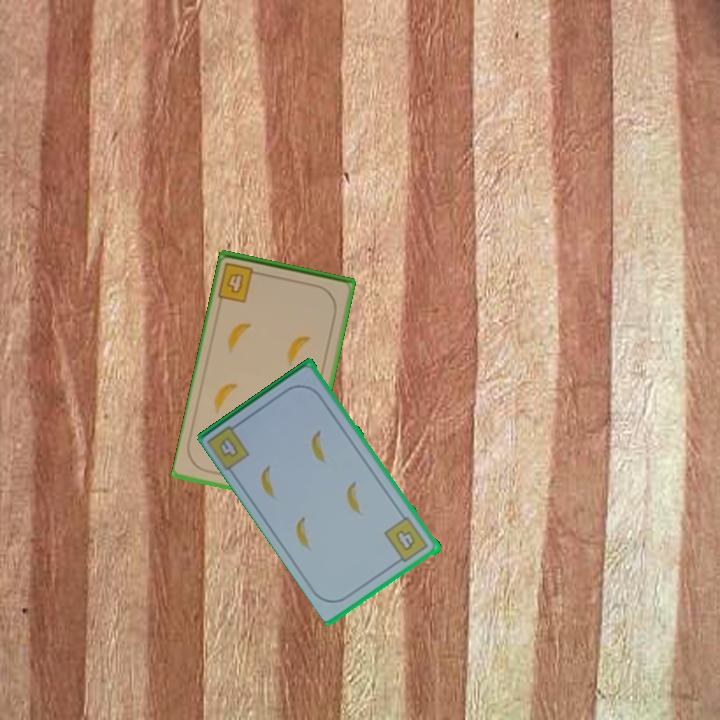4b: (381, 514, 432, 567), (205, 418, 253, 473), (215, 259, 265, 305)
